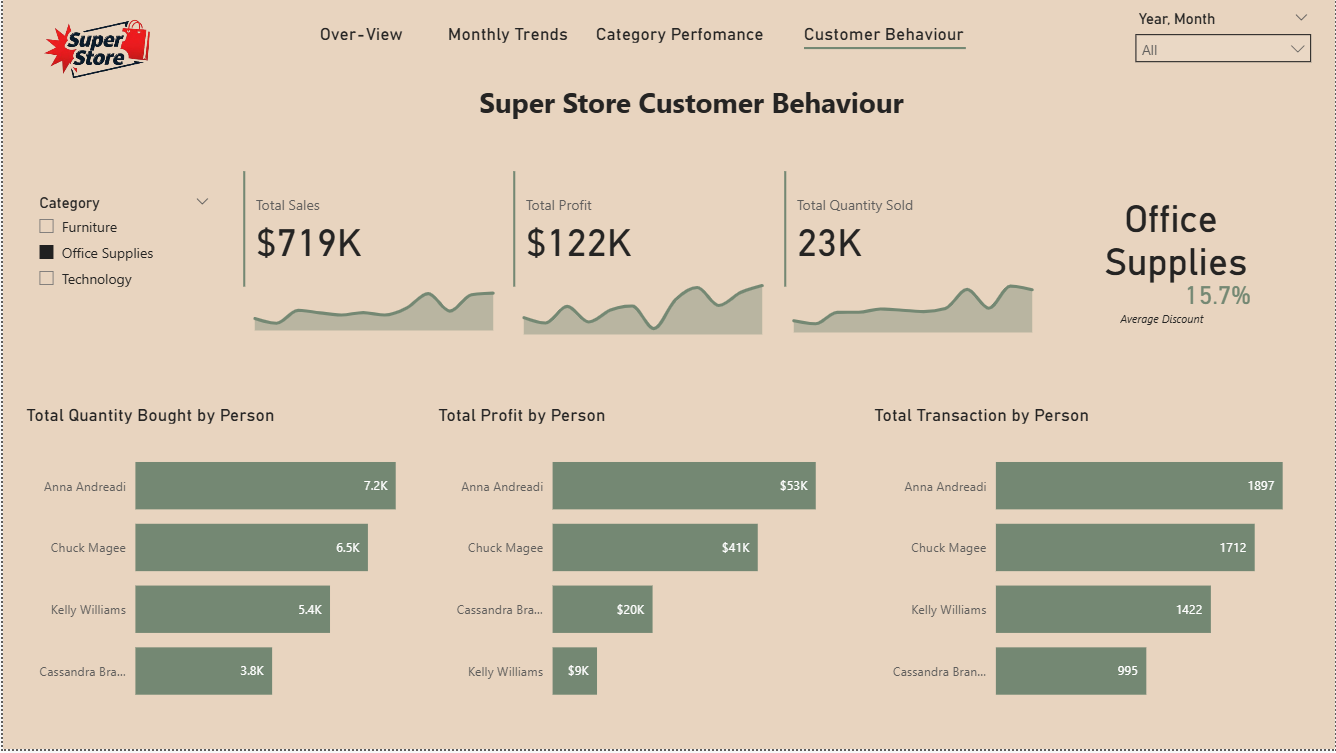

Layout of this report page (visuals, bound fields, positions):
{"tool":"powerbi","page":{"name":"Customer Behaviour","canvas":[1280,720],"ordinal":3},"visuals":[{"type":"image","box":[0,0,188.7,84.6],"z":0},{"type":"actionButton","title":"Over-View","box":[304.4,22.4,100.2,39.9],"z":1000},{"type":"shape","box":[770.3,0,155.6,92.4],"z":2000},{"type":"actionButton","title":"Monthly Trends","box":[428,22.4,122.6,39.9],"z":3000},{"type":"actionButton","title":"Category Perfomance","box":[570,22.4,169.2,39.9],"z":4000},{"type":"actionButton","title":"Customer Behaviour","box":[770.3,22.4,165.3,39.9],"z":5000},{"type":"barChart","title":"Total Quantity Bought by Person","fields":{"Category":["People.Person"],"Y":["Orders.Total Qunatity Sold"]},"box":[17.5,388.1,387.1,310.3],"z":6000},{"type":"slicer","fields":{"Values":["Calendar.Year","Calendar.Month"]},"box":[1078.7,4.9,188.7,70],"z":7000},{"type":"slicer","fields":{"Values":["Orders.Category"]},"box":[22.4,181.9,188.7,115.7],"z":8000},{"type":"barChart","title":"Total Profit by Person","fields":{"Category":["People.Person"],"Y":["Orders.Total Profit"]},"box":[413.4,388.1,407.5,310.3],"z":9000},{"type":"barChart","title":"Total Transaction by Person","fields":{"Category":["People.Person"],"Y":["Orders.Trans Count"]},"box":[832.6,388.1,434.8,310.3],"z":10000},{"type":"card","fields":{"Values":["Min(Orders.Category)"]},"box":[1002.8,151.7,250,150.8],"z":11000},{"type":"card","fields":{"Values":["Orders.Average Discount"]},"box":[1128.3,257.8,79.8,50.6],"z":12000},{"type":"textbox","box":[1068.9,291.8,99.2,32.1],"z":13000},{"type":"cardVisual","fields":{"Data":["Orders.Total Qunatity Sold"]},"box":[746,159.5,248,121.6],"z":14000},{"type":"areaChart","fields":{"Category":["Calendar.Month"],"Y":["Orders.Total Quantity Sold"]},"box":[747,253.9,255.8,72],"z":15000},{"type":"cardVisual","fields":{"Data":["Orders.Total Profit"]},"box":[485.8,159.5,248,121.6],"z":16000},{"type":"areaChart","fields":{"Category":["Calendar.Month"],"Y":["Orders.Total Profit"]},"box":[487.8,255.8,255.8,72],"z":17000},{"type":"cardVisual","fields":{"Data":["Orders.Total Sales"]},"box":[225.7,159.5,248,121.6],"z":18000},{"type":"areaChart","fields":{"Category":["Calendar.Month"],"Y":["Orders.Total Sales"]},"box":[228.6,251.9,255.8,72],"z":19000},{"type":"textbox","box":[453.3,74.9,482.4,51.6],"z":20000}]}

Visuals, with their boxes in screenshot pixels (x1, y1, x2, y2), scaled from the page's 1280x720 canvas onto the 1336x753 screenshot:
image: {"left": 0, "top": 0, "right": 197, "bottom": 88}
"Over-View" actionButton: {"left": 318, "top": 23, "right": 422, "bottom": 65}
shape: {"left": 804, "top": 0, "right": 966, "bottom": 97}
"Monthly Trends" actionButton: {"left": 447, "top": 23, "right": 575, "bottom": 65}
"Category Perfomance" actionButton: {"left": 595, "top": 23, "right": 772, "bottom": 65}
"Customer Behaviour" actionButton: {"left": 804, "top": 23, "right": 977, "bottom": 65}
"Total Quantity Bought by Person" barChart: {"left": 18, "top": 406, "right": 422, "bottom": 730}
slicer - Calendar.Year x Calendar.Month: {"left": 1126, "top": 5, "right": 1323, "bottom": 78}
slicer - Orders.Category: {"left": 23, "top": 190, "right": 220, "bottom": 311}
"Total Profit by Person" barChart: {"left": 431, "top": 406, "right": 857, "bottom": 730}
"Total Transaction by Person" barChart: {"left": 869, "top": 406, "right": 1323, "bottom": 730}
card - Min(Orders.Category): {"left": 1047, "top": 159, "right": 1308, "bottom": 316}
card - Orders.Average Discount: {"left": 1178, "top": 270, "right": 1261, "bottom": 323}
textbox: {"left": 1116, "top": 305, "right": 1219, "bottom": 339}
cardVisual - Orders.Total Qunatity Sold: {"left": 779, "top": 167, "right": 1037, "bottom": 294}
areaChart - Calendar.Month x Orders.Total Quantity Sold: {"left": 780, "top": 266, "right": 1047, "bottom": 341}
cardVisual - Orders.Total Profit: {"left": 507, "top": 167, "right": 766, "bottom": 294}
areaChart - Calendar.Month x Orders.Total Profit: {"left": 509, "top": 268, "right": 776, "bottom": 343}
cardVisual - Orders.Total Sales: {"left": 236, "top": 167, "right": 494, "bottom": 294}
areaChart - Calendar.Month x Orders.Total Sales: {"left": 239, "top": 263, "right": 506, "bottom": 339}
textbox: {"left": 473, "top": 78, "right": 977, "bottom": 132}
